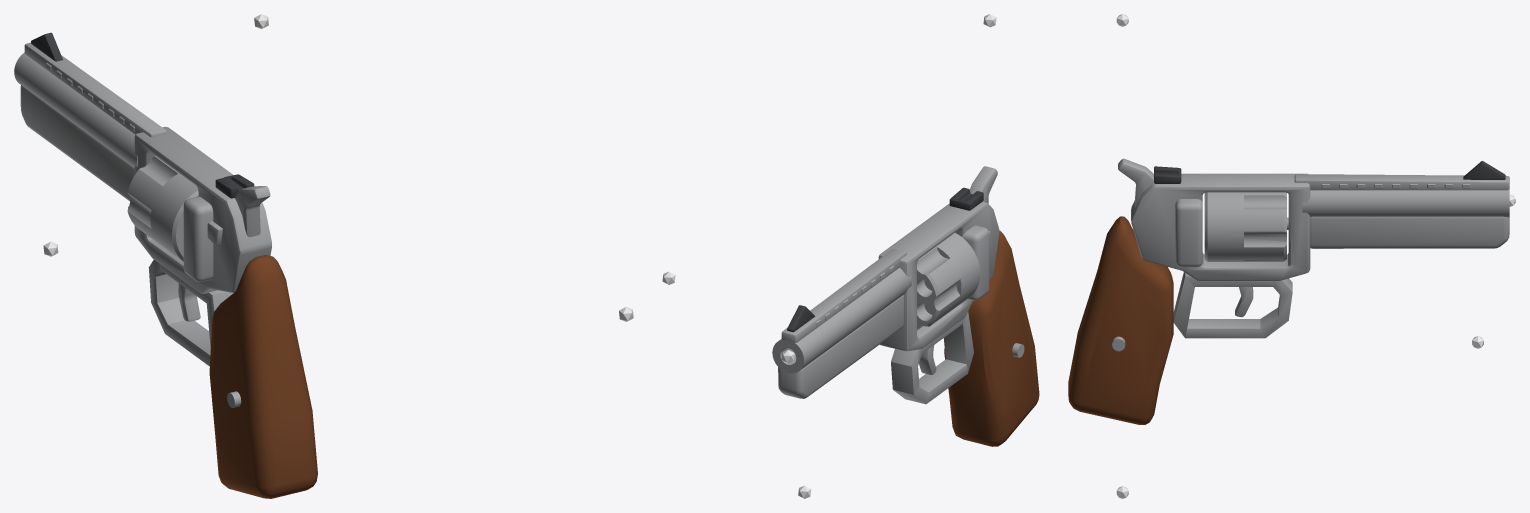
Rendered from Revolver.glb.
3 renders of one model, left to right at view 1: azimuth 30°, elevation 25°; view 2: azimuth 150°, elevation 25°; view 3: azimuth 270°, elevation 25°, orthographic. The views are drawn at different scales.
Visible parts, largest first — view 1: Grip, Frame, Barrel, Cylinder, Hammer, Sights; view 2: Grip, Frame, Barrel, Cylinder, Sights, Hammer; view 3: Frame, Grip, Barrel, Cylinder, Sights, Hammer.
Boxes of the visible parts, x1,y1,x2,y2 form: Grip: (209,254,317,498); Frame: (134,126,271,407); Barrel: (14,42,167,201); Cylinder: (127,155,198,261); Hammer: (235,186,270,237); Sights: (31,32,254,198); Grip: (944,230,1039,446); Frame: (878,201,1024,404); Barrel: (772,249,911,398); Cylinder: (917,233,980,330); Sights: (787,187,983,332); Hammer: (970,166,997,203); Frame: (1112,173,1310,351); Grip: (1068,216,1173,424); Barrel: (1294,174,1509,248); Cylinder: (1204,192,1288,261); Sights: (1154,161,1505,183); Hammer: (1118,158,1153,207).
Bounding box in the file's own units: 1.13 × 1.25 × 1.26.
